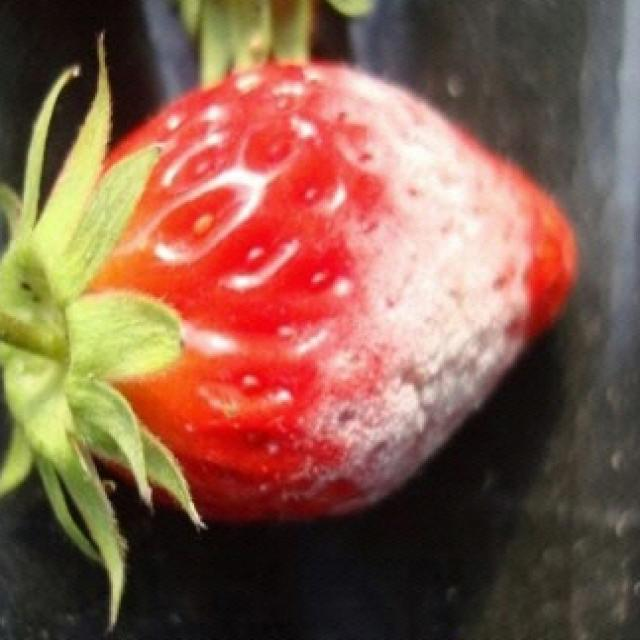Powdery Mildew Fruit: (224, 57, 547, 518)
